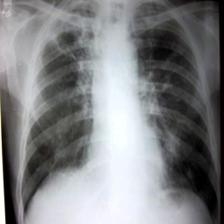tuberculosis: (15, 0, 224, 222)
